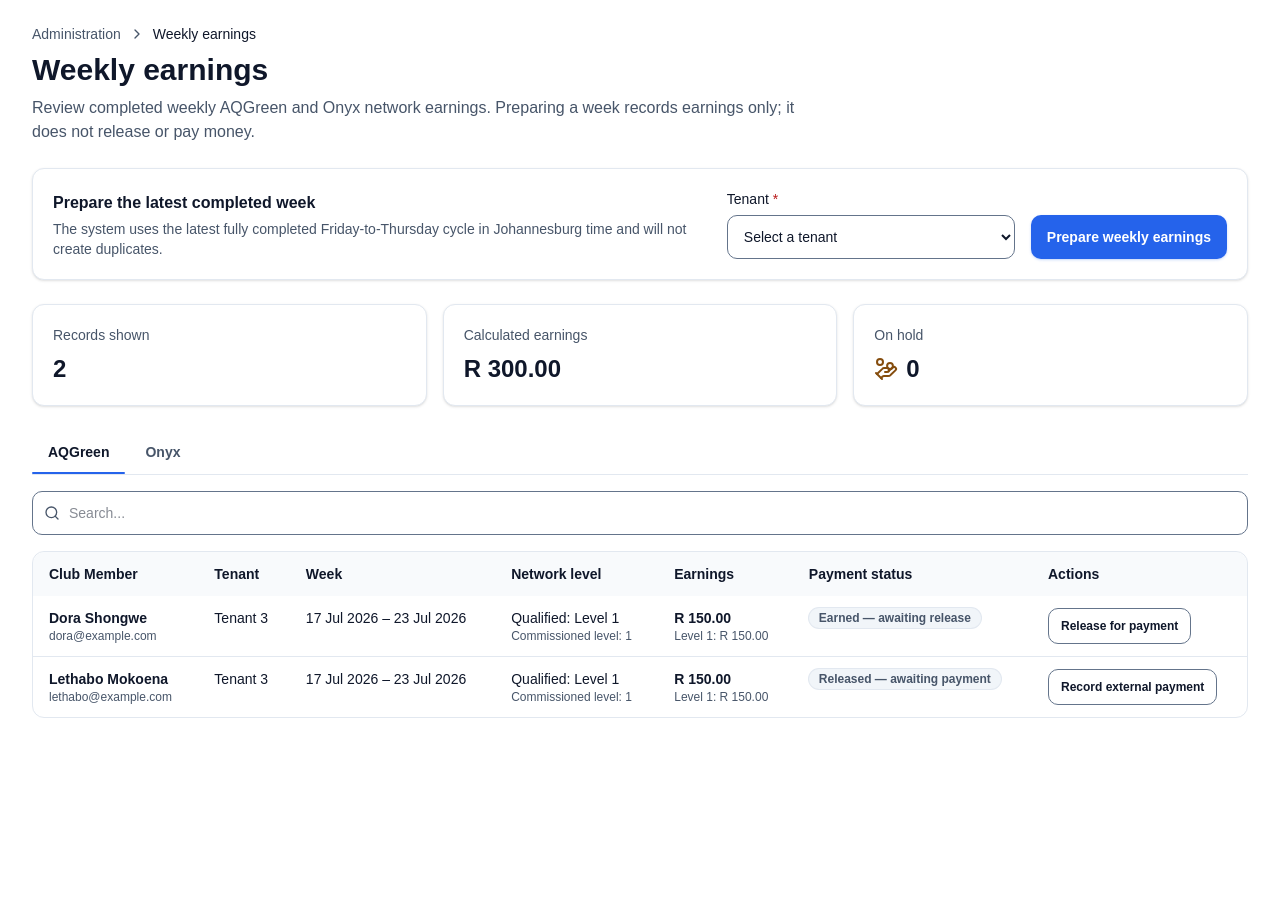
Test: AdminWeeklyEarnings › labels and submits the selected Tenant for the latest completed week
Expected: the text "Friday-to-Thursday cycle in Johannesburg time" is shown, [53,221,686,257]
Expected: the column heading "Tenant" is shown, [198,552,290,596]
Select "Soweto (soweto)" in the dropdown labelled "Tenant" at {"x": 871, "y": 237}, box [727,215,1015,259]
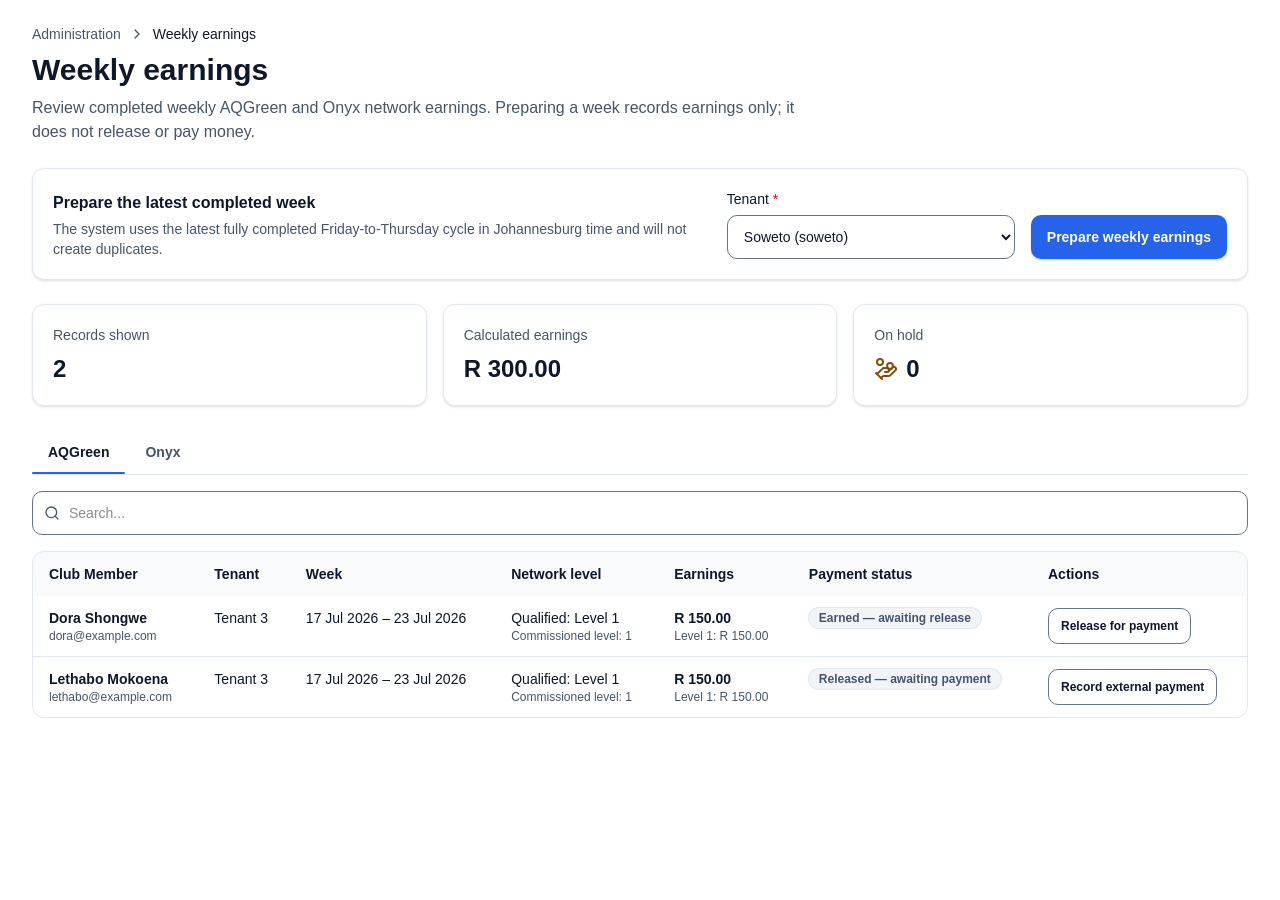
Click the button "Prepare weekly earnings" at {"x": 1129, "y": 237}, box [1031,215,1227,259]
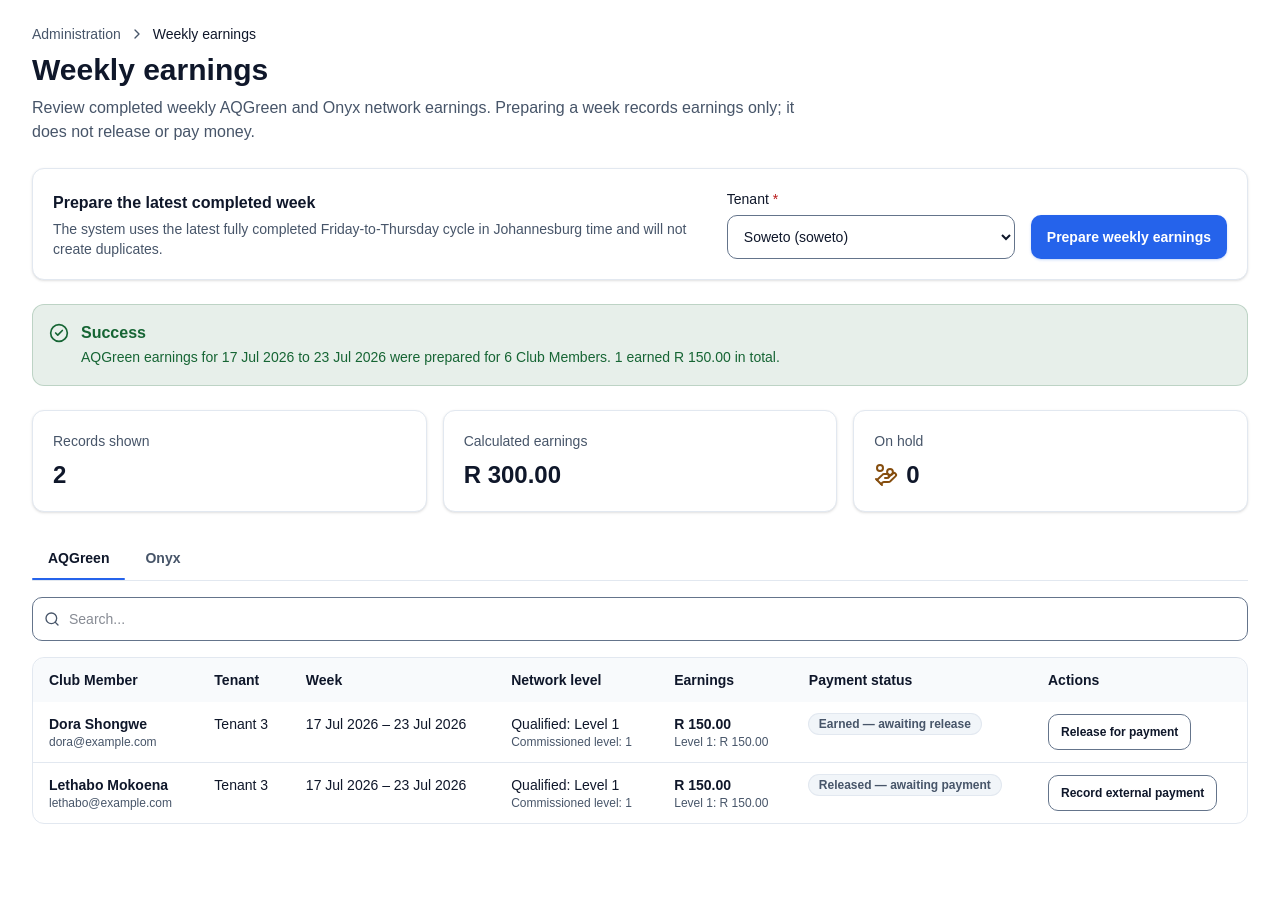
Expected: the text "were prepared for 6 Club Members" is shown, [81,349,780,365]
